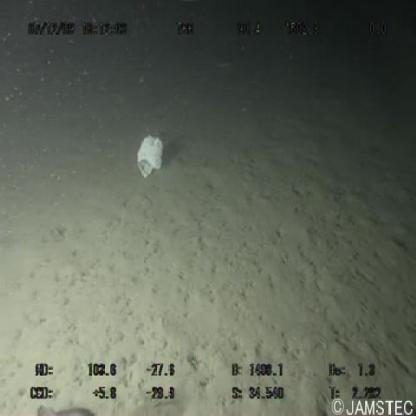Rác: (131, 131, 171, 186)
